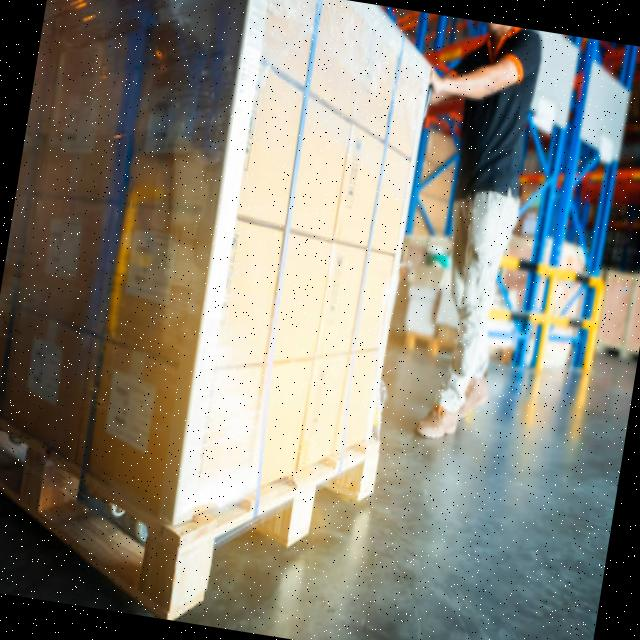Wooden-Pallets: (0, 420, 388, 620)
